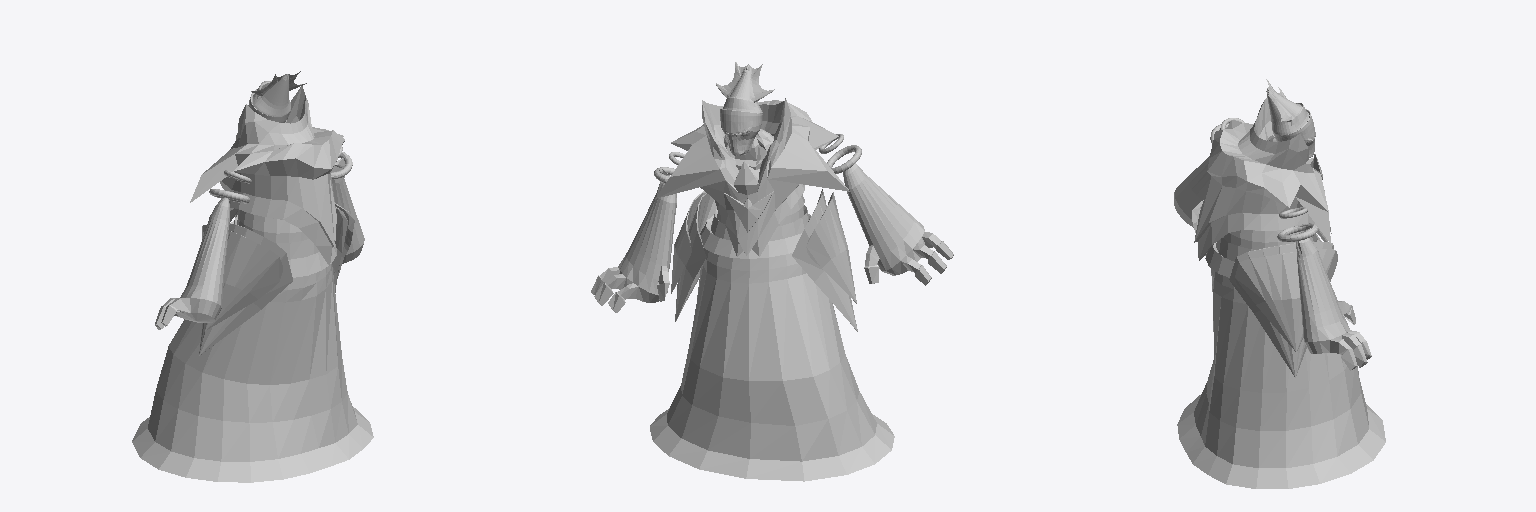
Rendered from RATH_IDLE_24FPS.0077.obj.
3 renders of one model, left to right at view 1: azimuth 30°, elevation 25°; view 2: azimuth 150°, elevation 25°; view 3: azimuth 270°, elevation 25°, orthographic.
Visible parts, largest first — view 1: pasted__pasted__pTorus3; view 2: pasted__pasted__pTorus3; view 3: pasted__pasted__pTorus3.
Boxes of the visible parts, box(x1,y1,x2,y2) form: pasted__pasted__pTorus3: box(132, 71, 373, 482); pasted__pasted__pTorus3: box(591, 62, 953, 481); pasted__pasted__pTorus3: box(1174, 79, 1385, 488).
Bounding box in the file's own units: 138 × 174 × 90.73.